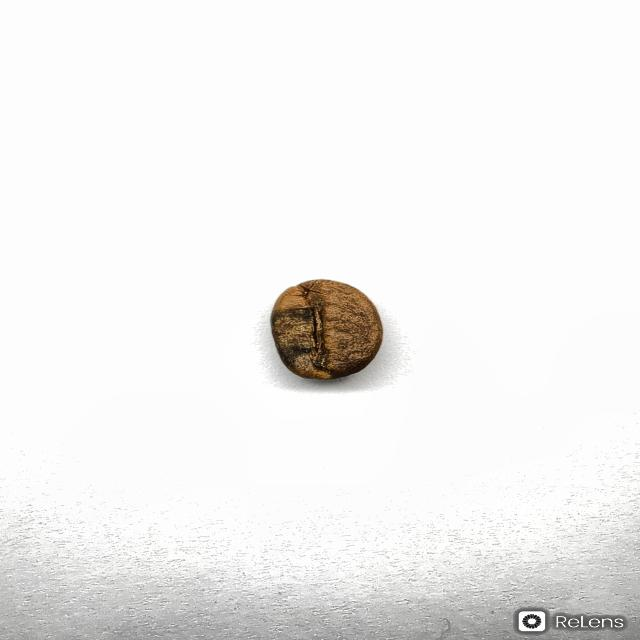Scorched: (268, 277, 385, 381)
